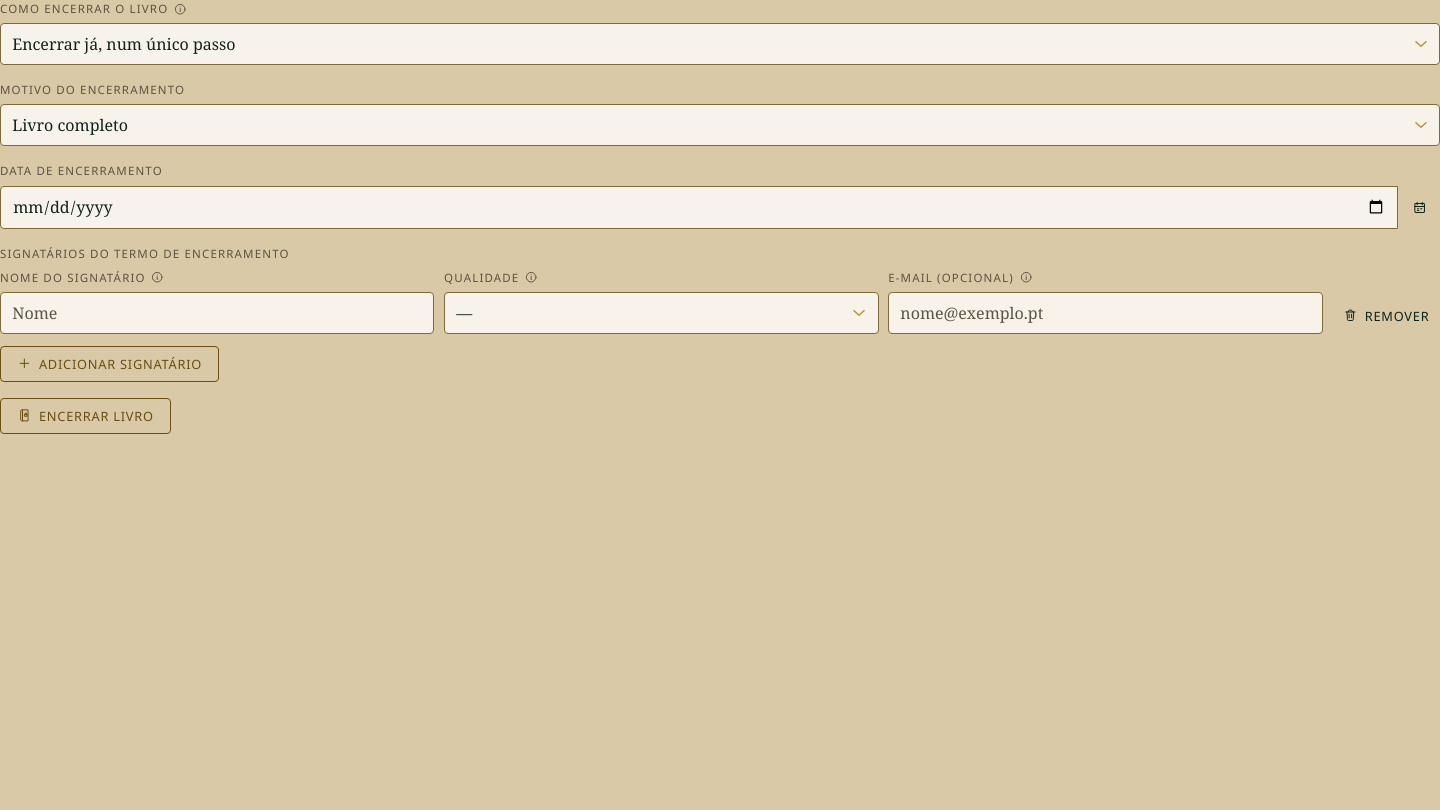
Test: CloseBookForm › sends no close request at all until the dialog is confirmed
In the date field labelled "Data de encerramento": (699, 207) [0,186,1398,229], type "2026-07-13"
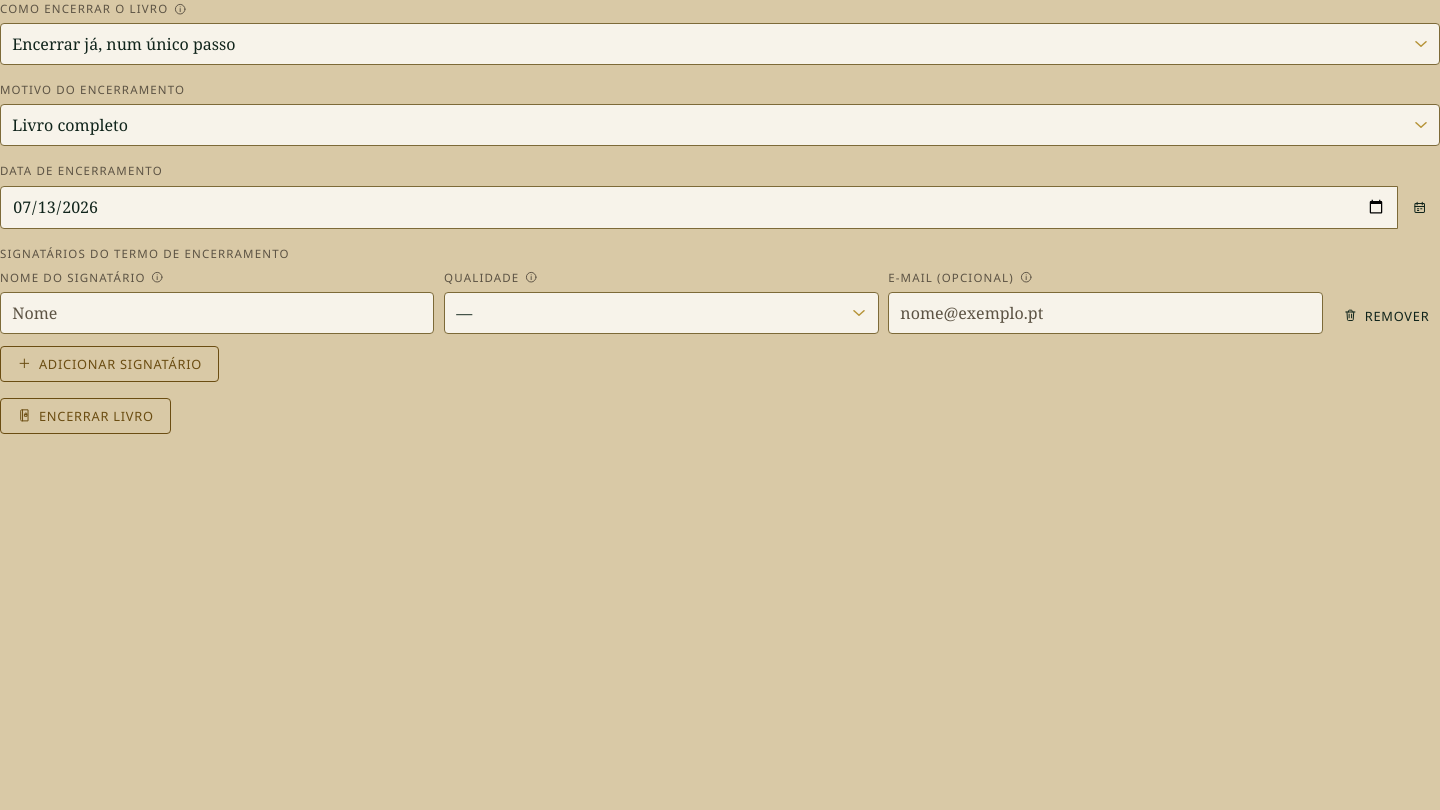
Click the submit button: (85, 416) [0,398,171,434]
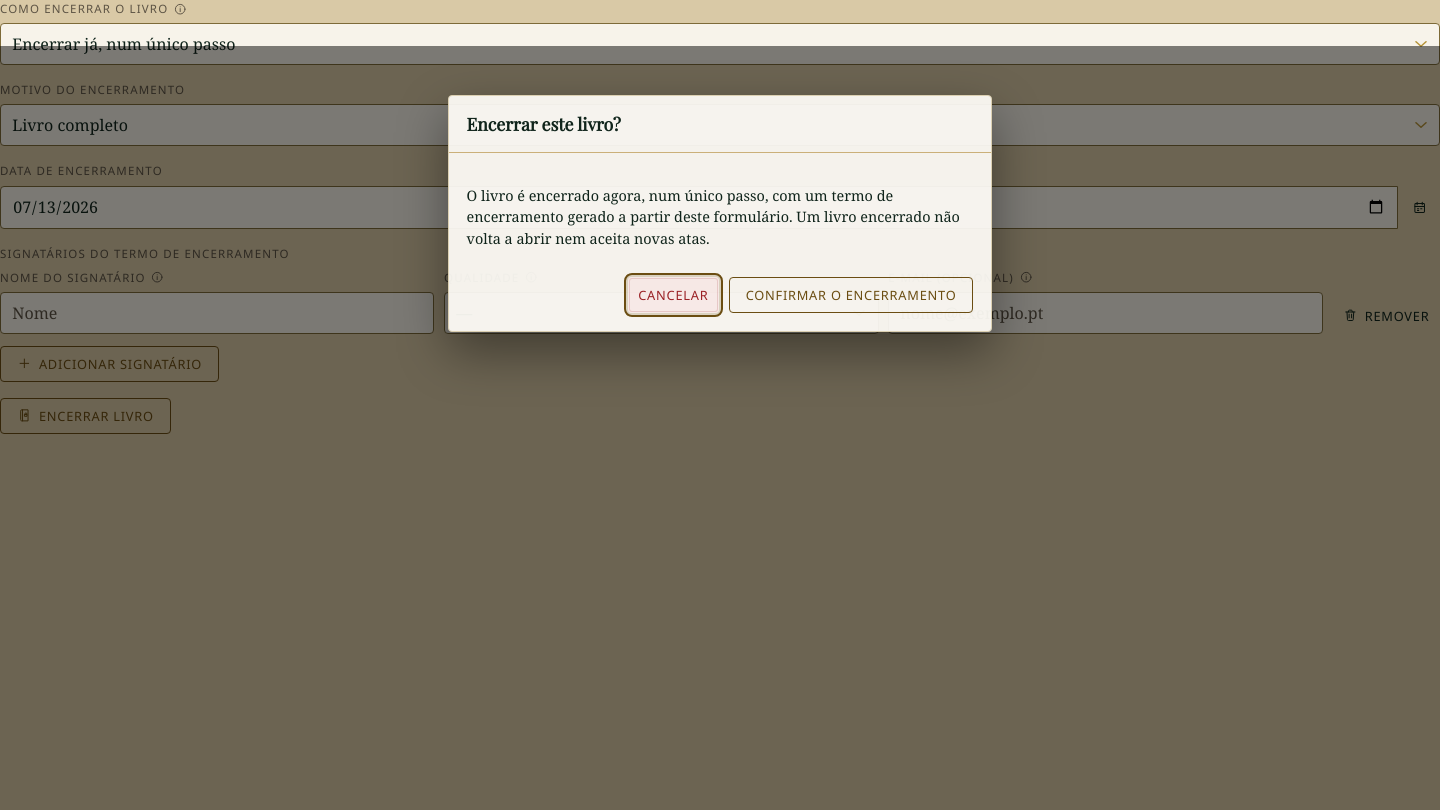
Result: the dialog is shown at [448,95,992,332]
